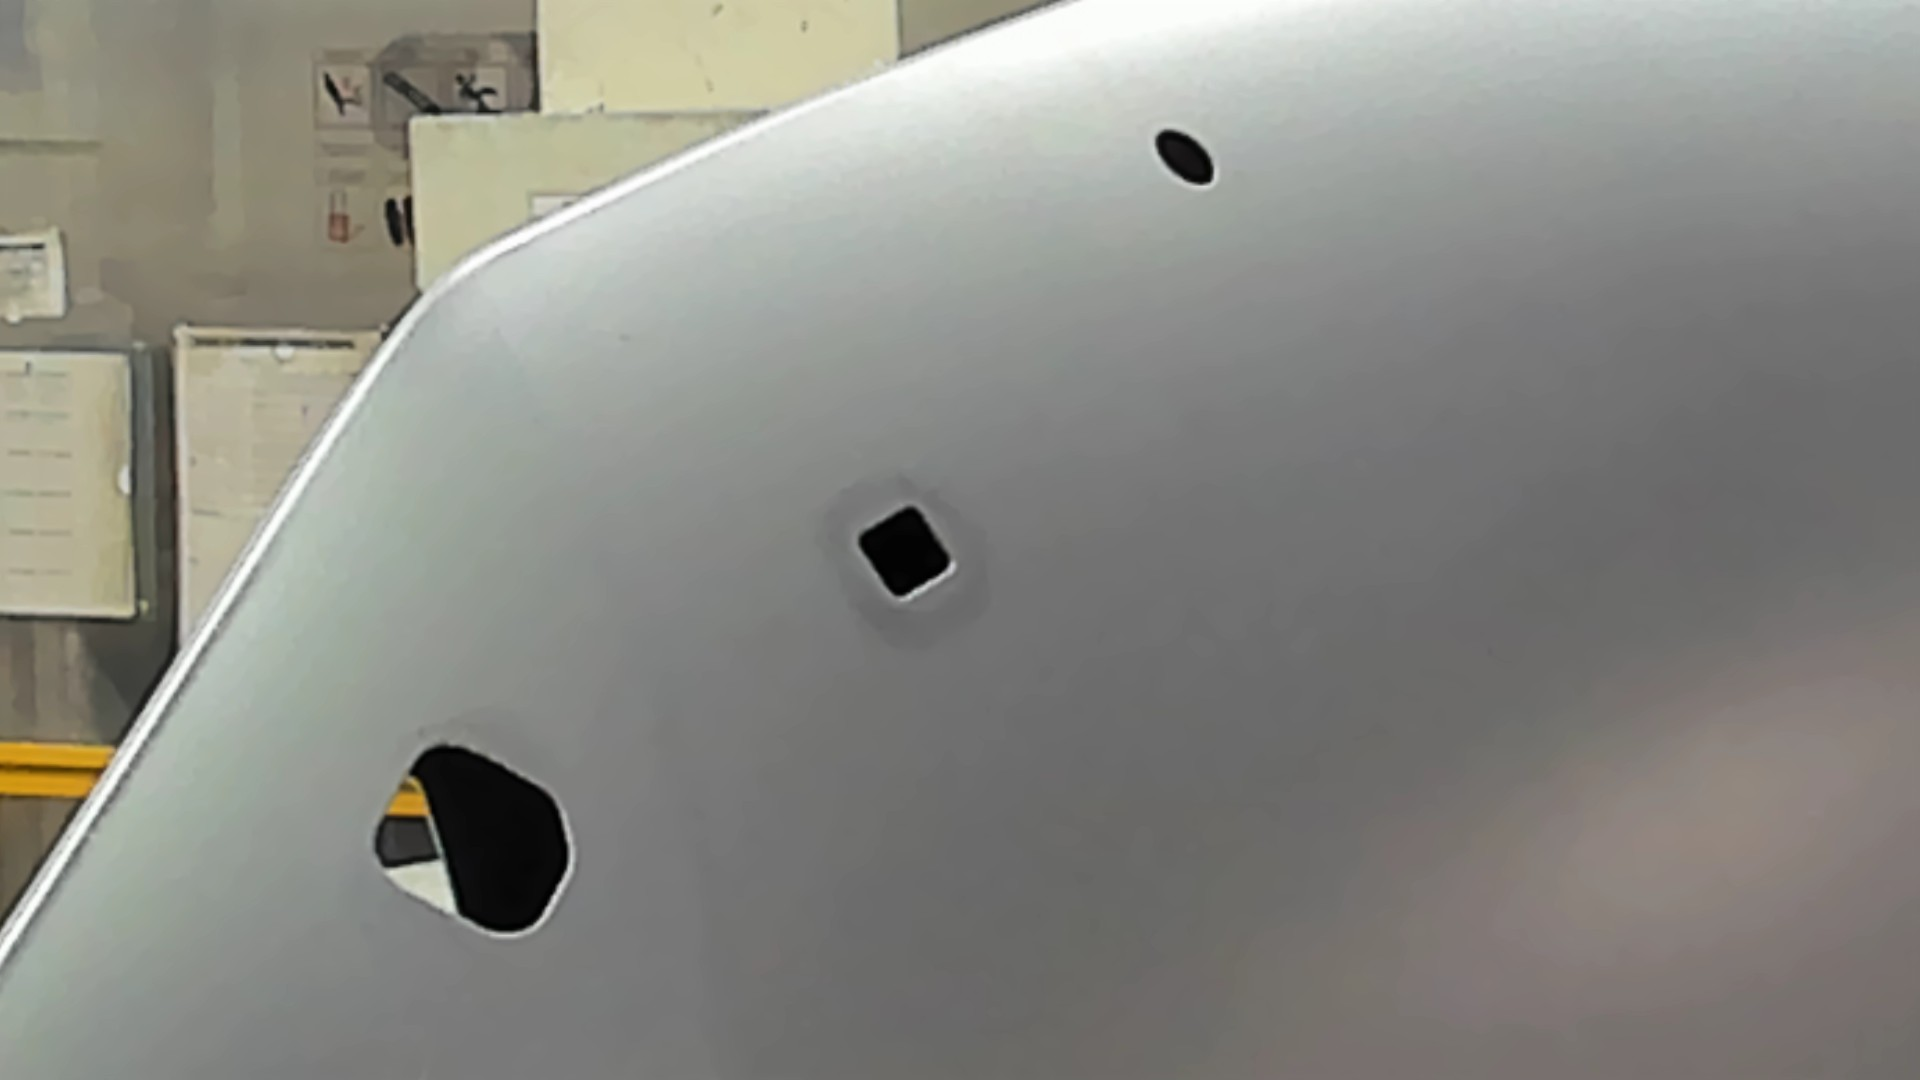chico: (1153, 127, 1220, 191)
grande: (369, 735, 582, 944)
mediano: (848, 496, 961, 607)
